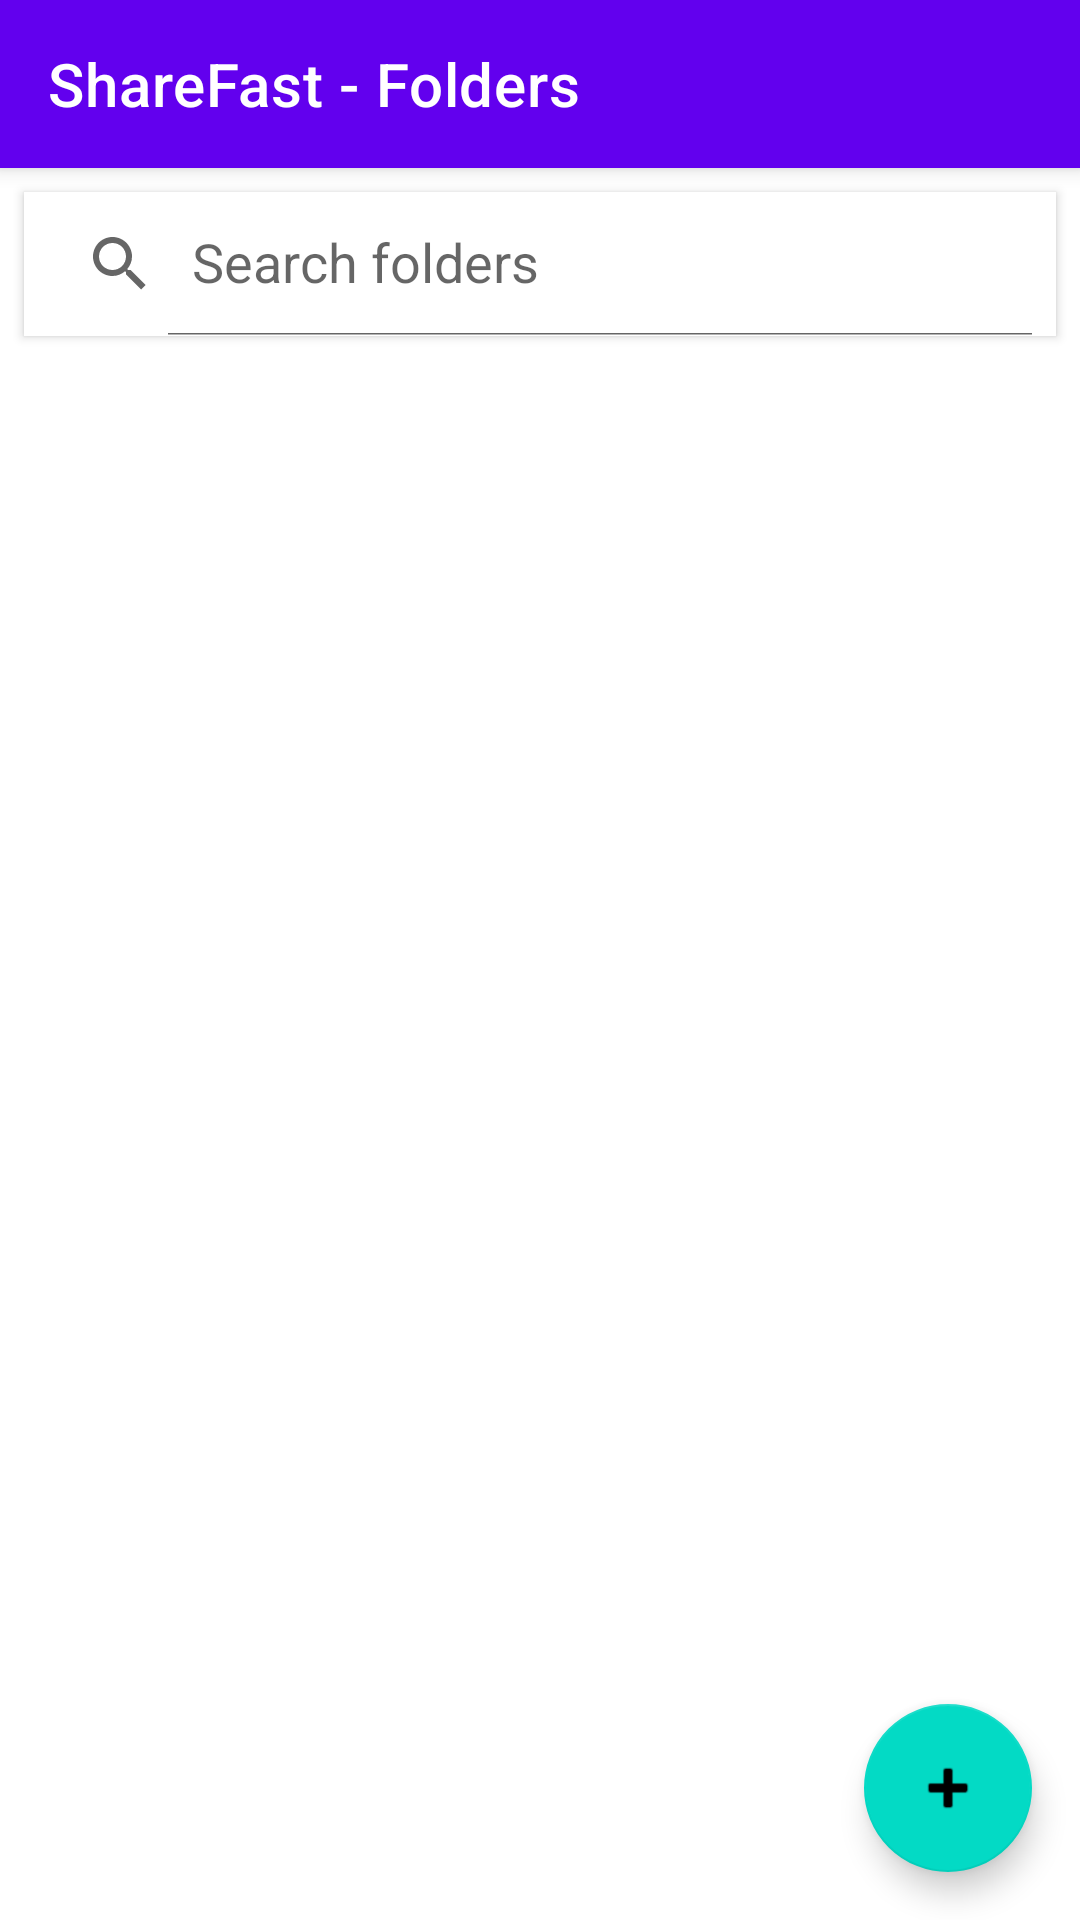

Where icons sit on this 1080px x 1920px app screen, as bbox=[x1, y1, x2, y2]:
Add Folder: bbox=[864, 1704, 1032, 1872]
